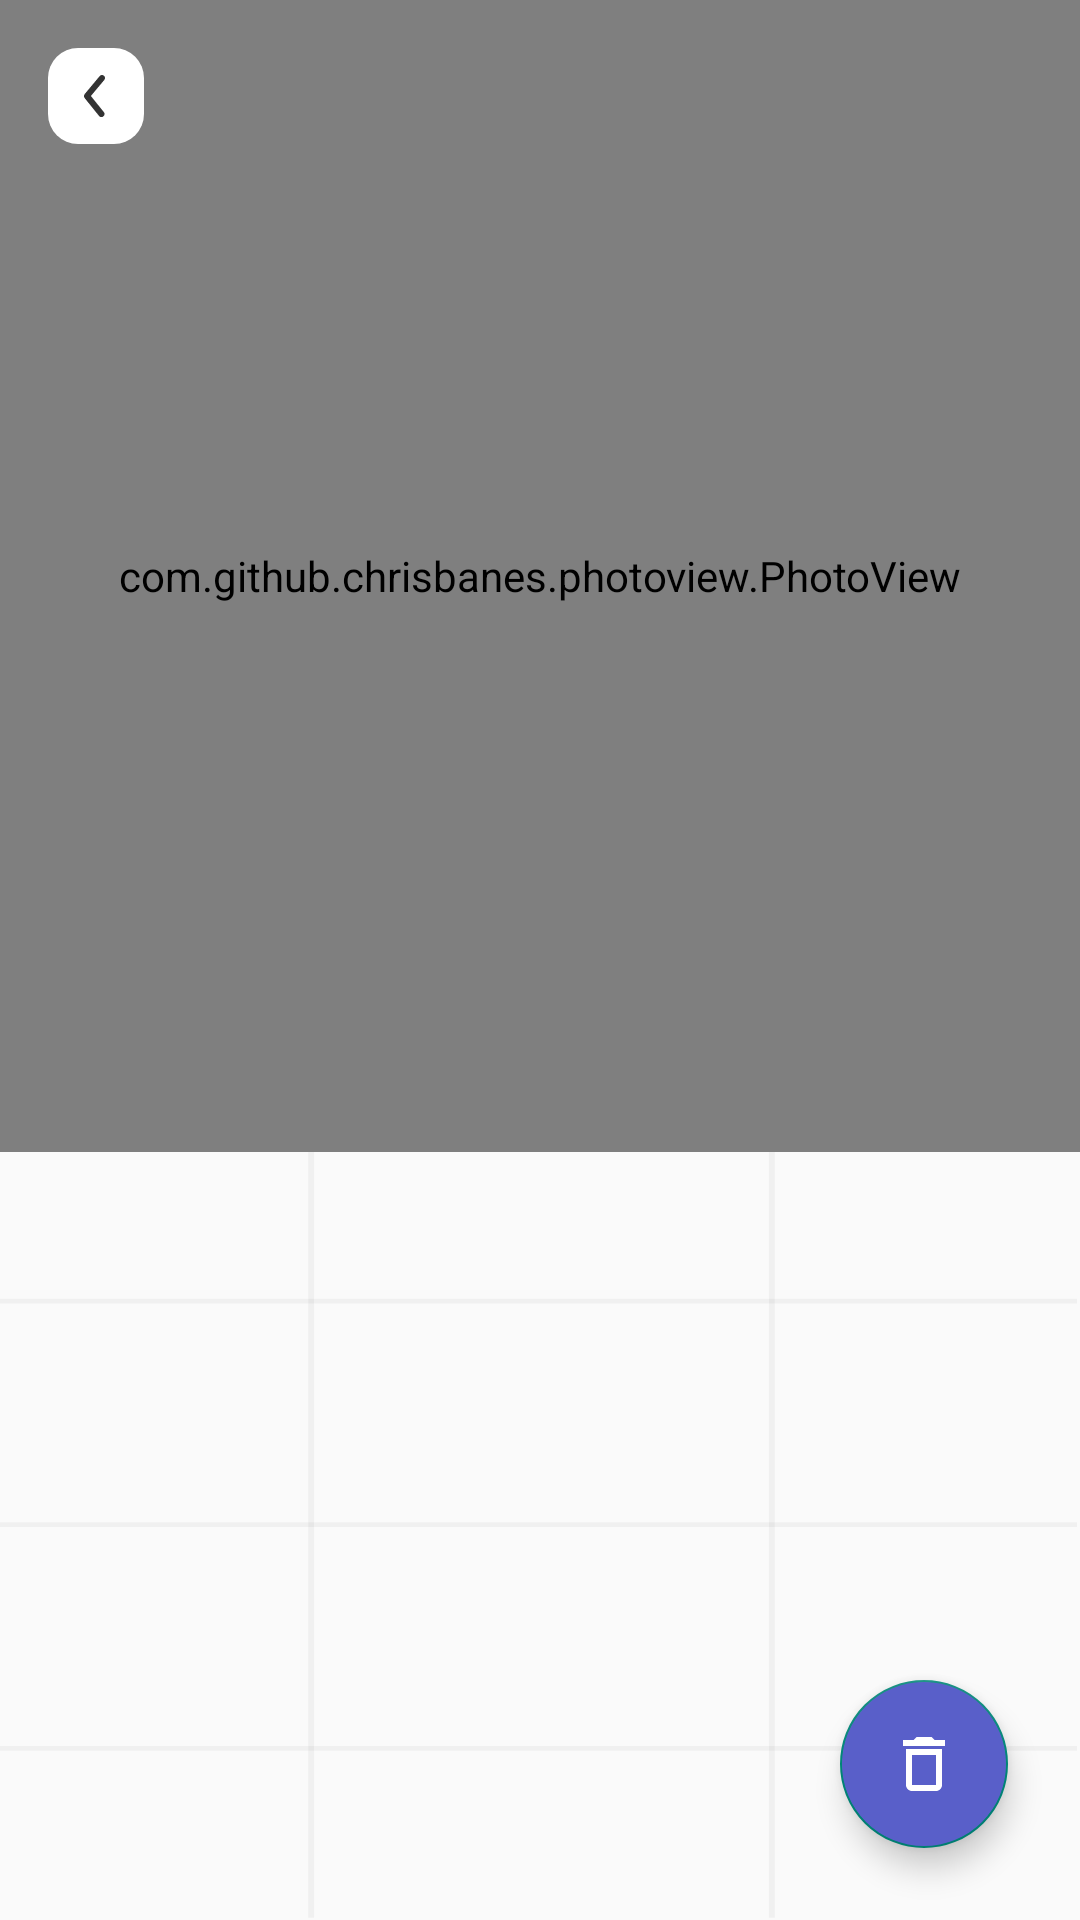

Point at icon controls on the screen. Image size 1080px×1920px, points as point (x, y).
back: point (96, 96)
delete: point (924, 1764)
